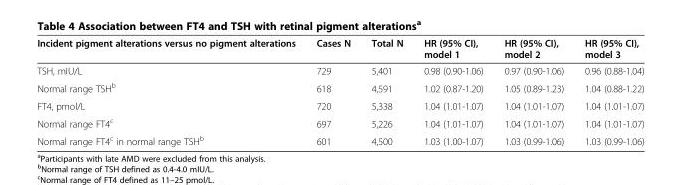table: (36, 36, 643, 146)
table column: (36, 36, 305, 146), (412, 36, 493, 146), (493, 36, 573, 146), (573, 36, 643, 146), (305, 36, 360, 146), (360, 36, 412, 146)
table column header: (36, 36, 643, 62)
table row: (36, 36, 643, 62), (36, 78, 643, 96), (36, 113, 643, 131), (36, 96, 643, 113), (36, 62, 643, 78), (36, 131, 643, 146)
